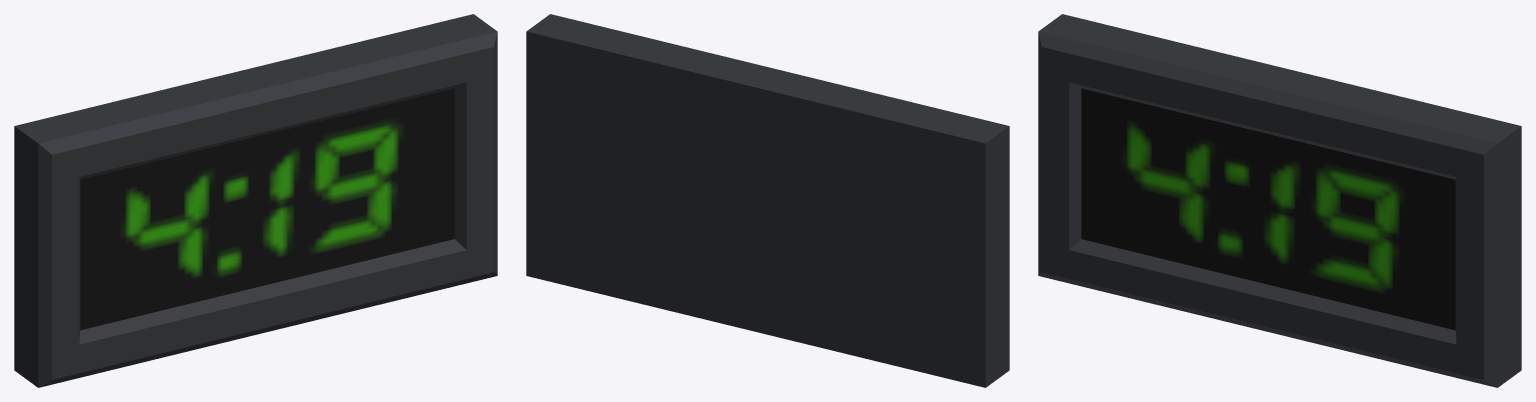
Rendered from SM_Prop_Clock_01.fbx.
The picture shows the model from 3 angles, left to right: view 1: azimuth 30°, elevation 25°; view 2: azimuth 150°, elevation 25°; view 3: azimuth 330°, elevation 25°; orthographic projection.
Parts seen in each view (by area): view 1: SM_Prop_Clock_01; view 2: SM_Prop_Clock_01; view 3: SM_Prop_Clock_01.
Boxes of the visible parts, <box> form: SM_Prop_Clock_01: <box>14,14,497,387</box>; SM_Prop_Clock_01: <box>526,14,1009,387</box>; SM_Prop_Clock_01: <box>1038,14,1521,387</box>.
Bounding box in the file's own units: 61.95 × 31.5 × 6.79.
